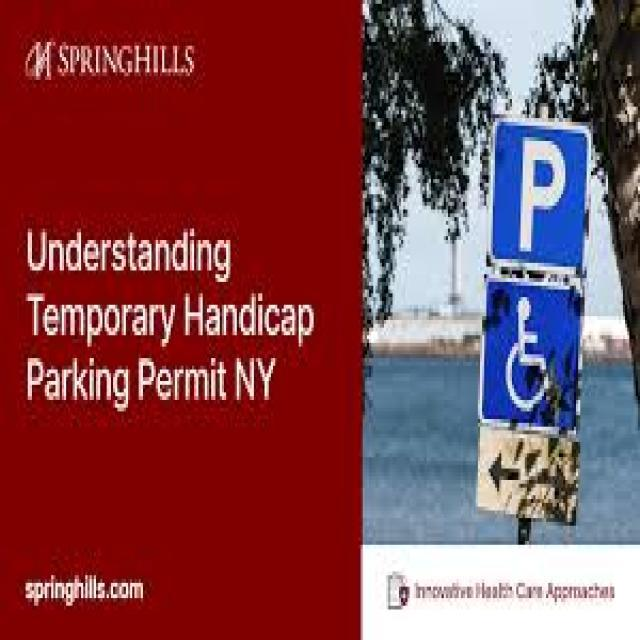symbol_of_access: (502, 288, 570, 423)
